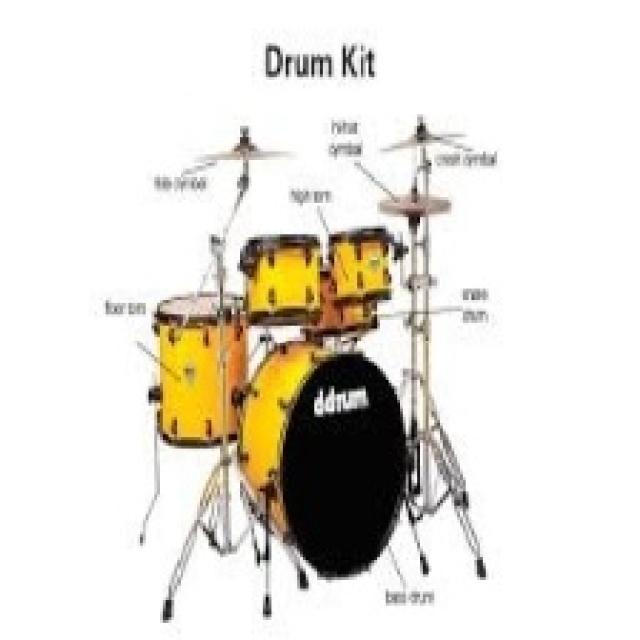drums: (112, 112, 499, 582)
